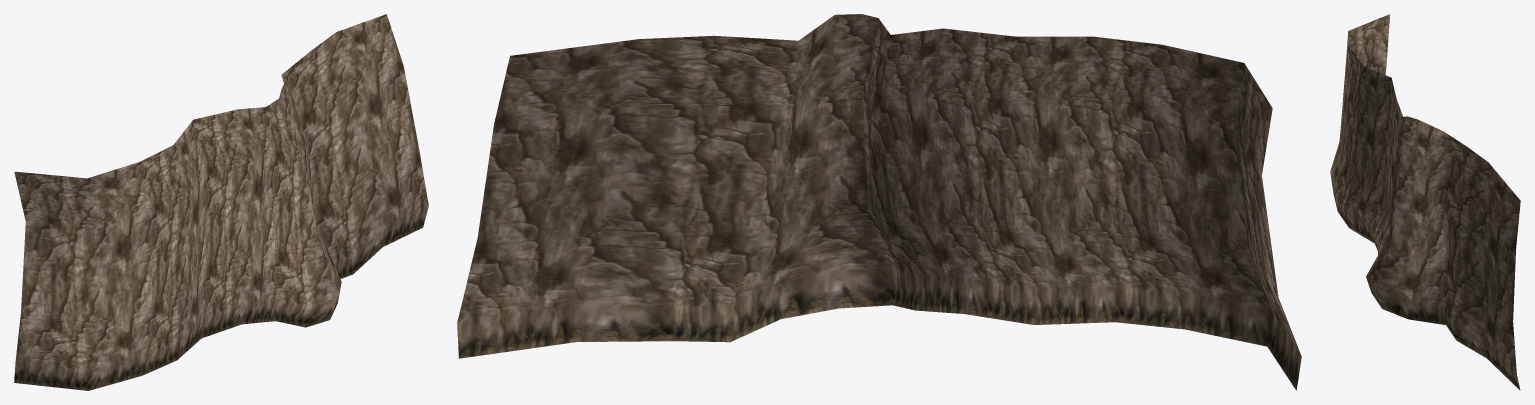
File: OVERHILL_A_01_OH_B_OBJECT12.fbx
The picture shows the model from 3 angles, left to right: view 1: azimuth 30°, elevation 25°; view 2: azimuth 150°, elevation 25°; view 3: azimuth 270°, elevation 25°; orthographic projection. The views are drawn at different scales.
Visible parts, largest first — view 1: OVERHILL_A_01_OH_B_OBJECT12; view 2: OVERHILL_A_01_OH_B_OBJECT12; view 3: OVERHILL_A_01_OH_B_OBJECT12.
Boxes of the visible parts, bbox=[...] form: OVERHILL_A_01_OH_B_OBJECT12: bbox=[14, 14, 428, 390]; OVERHILL_A_01_OH_B_OBJECT12: bbox=[457, 14, 1301, 390]; OVERHILL_A_01_OH_B_OBJECT12: bbox=[1330, 14, 1520, 390].
Size of the model in its own units: 175597 by 81272 by 72492.
Materials: 2 (2 with a texture image).
